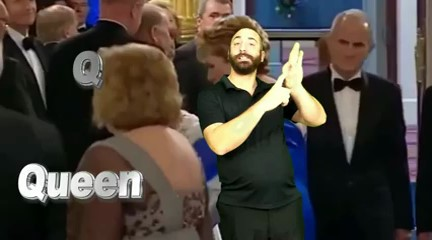Q: (266, 40, 310, 112)
